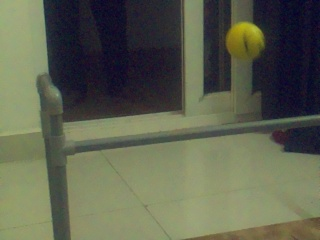ball: (225, 22, 264, 59)
